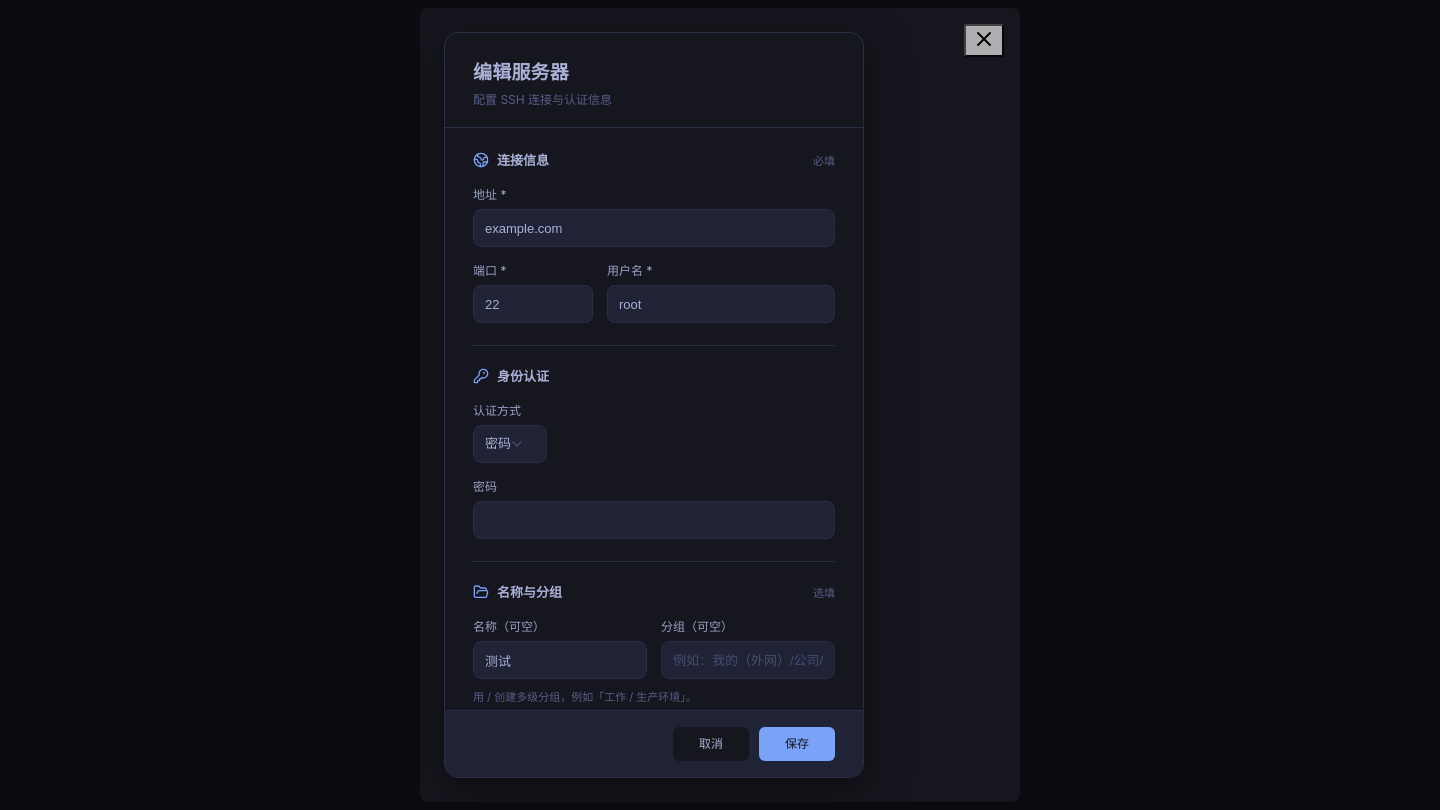
Test case: server input › explains invalid port 0 and focuses it
Replace the text in the field labelled "端口 *" with "0" at [533, 304], box [473,285,593,323]
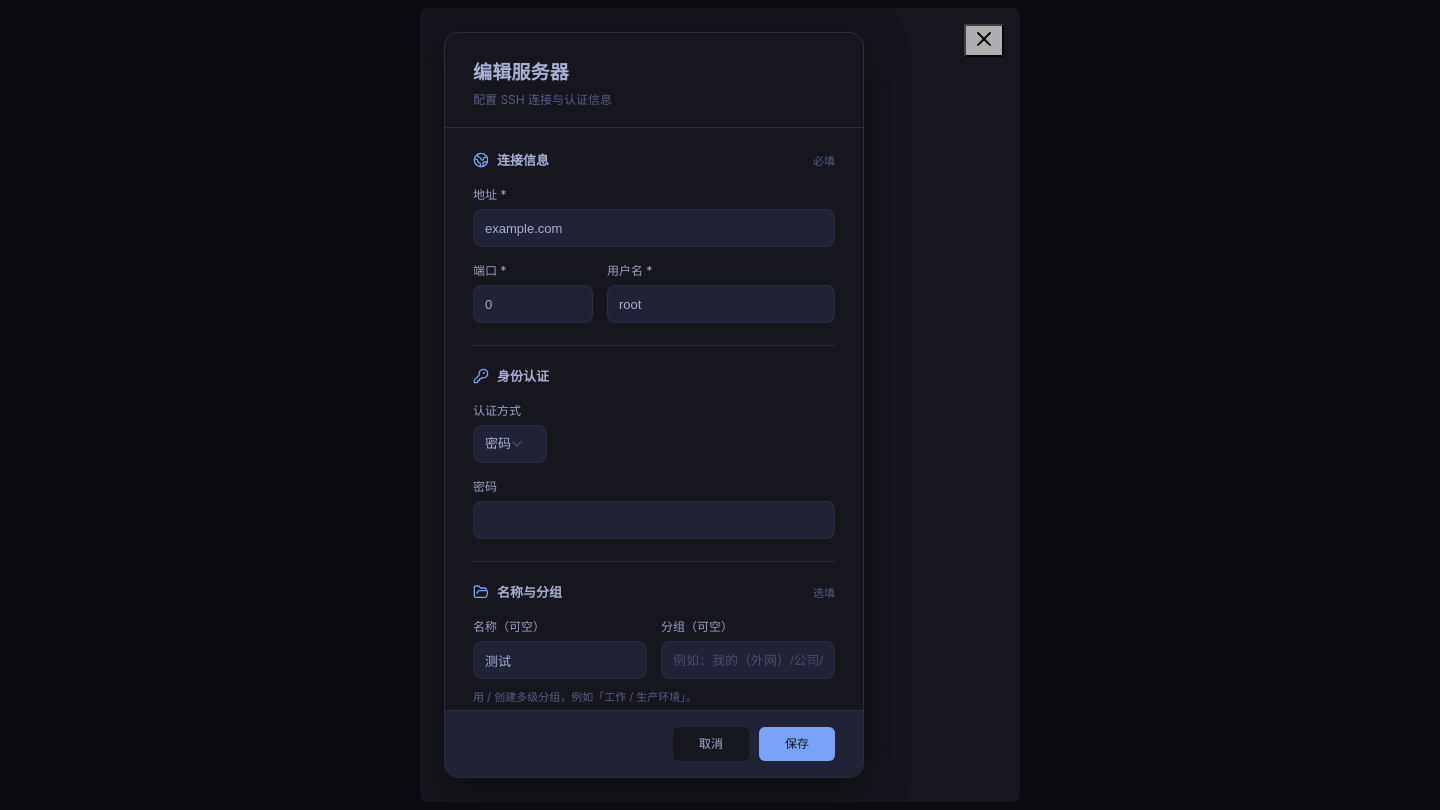
Submit the form, box [444,32,864,778]
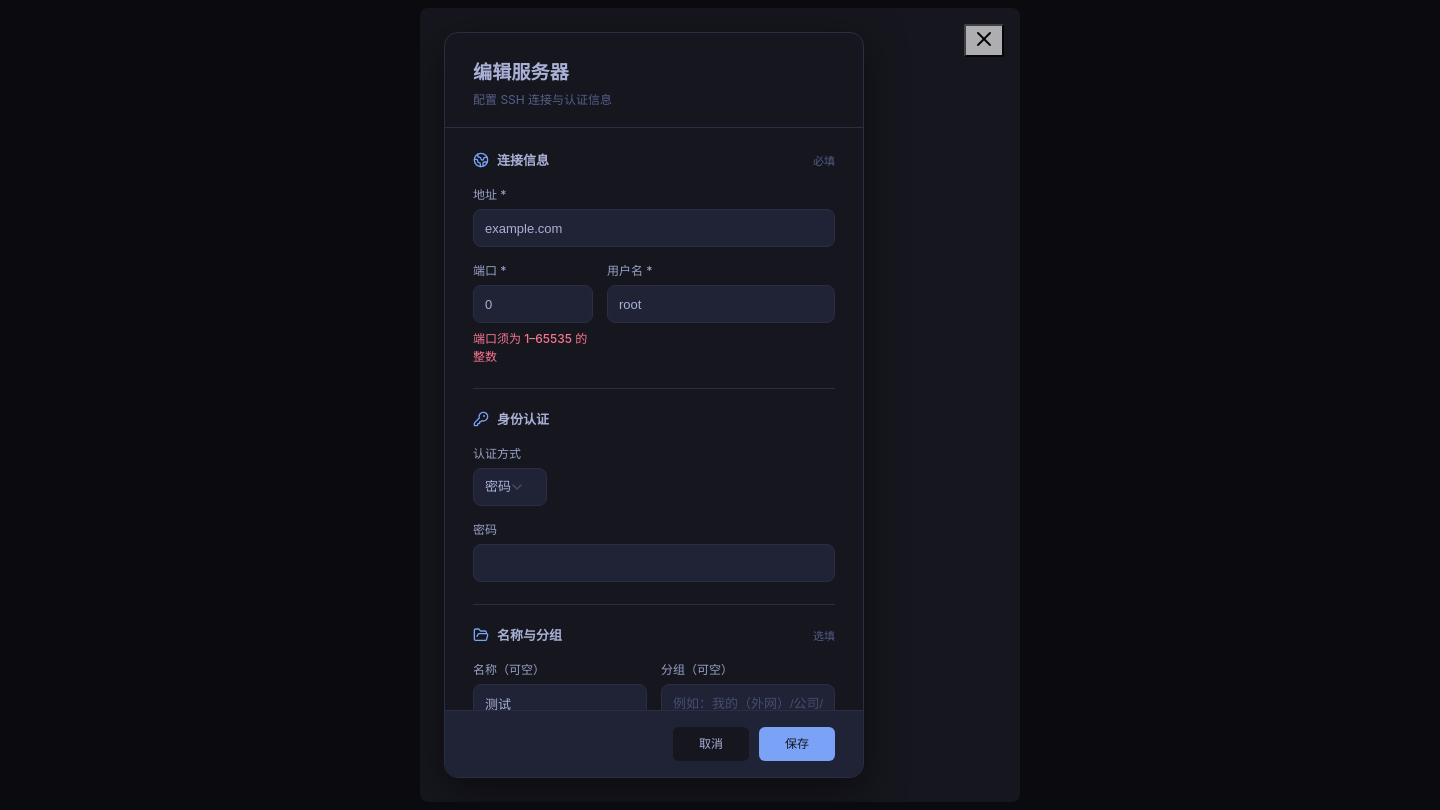
Expected: the text "端口须为 1–65535 的整数" is shown, [473,330,593,366]
